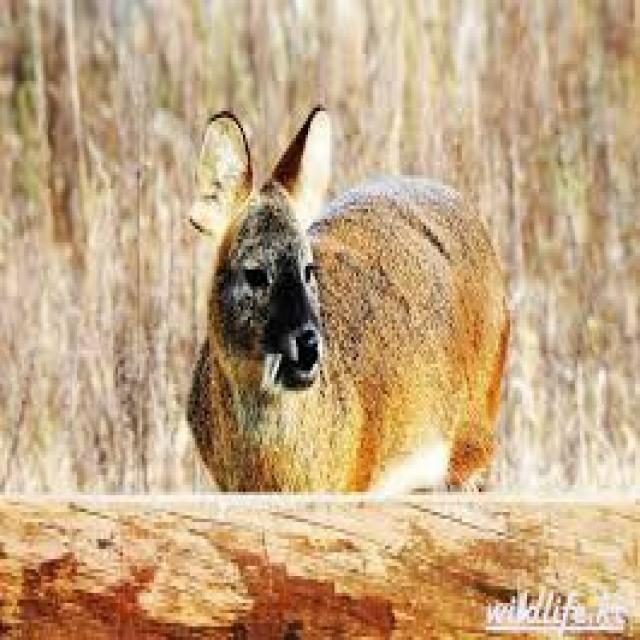elk: (154, 70, 545, 517)
